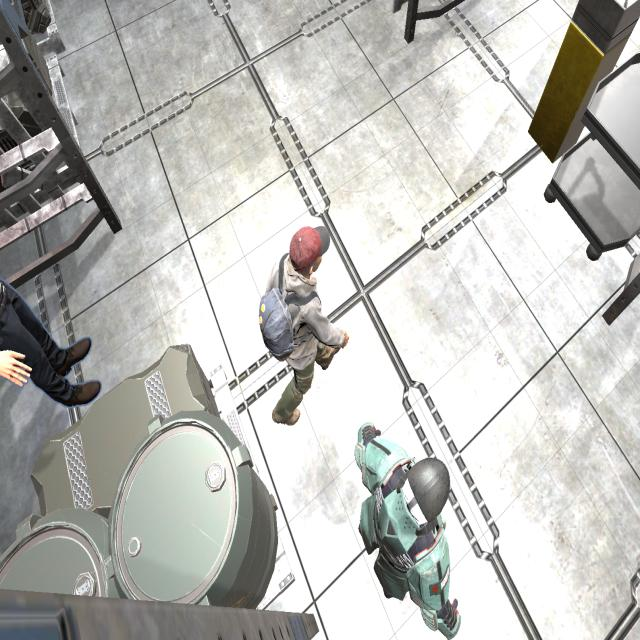thiefs: (253, 205, 358, 436)
